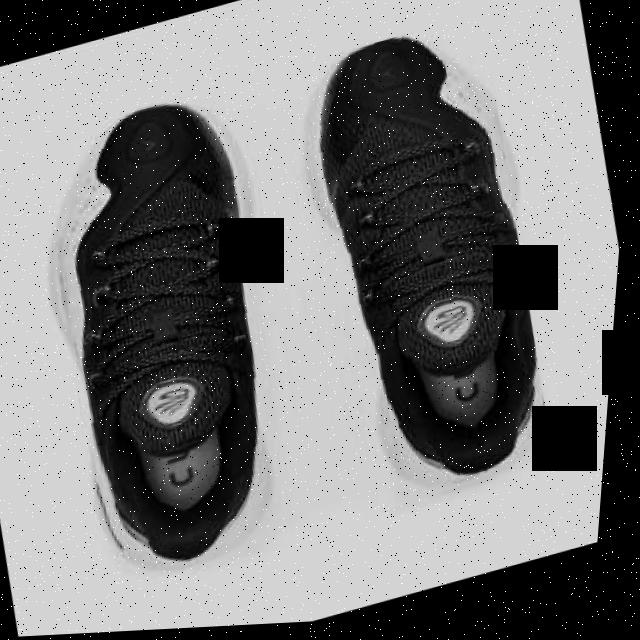shoe: (0, 75, 345, 600), (255, 13, 588, 528)
